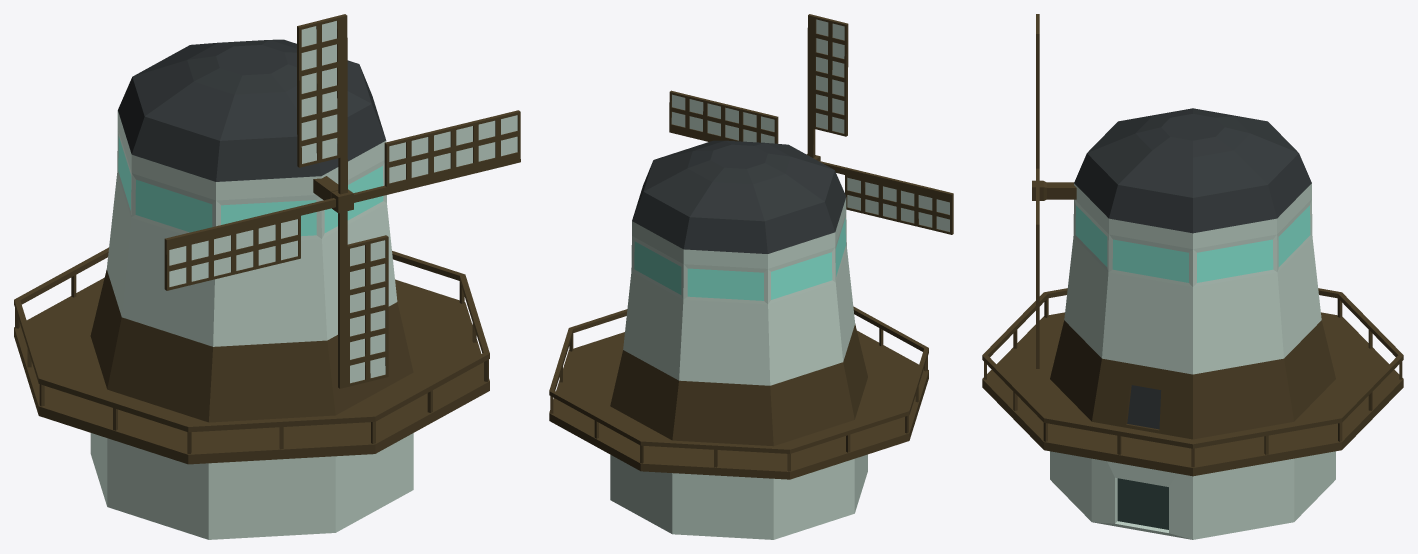
Rendered from windmill.fbx.
The picture shows the model from 3 angles, left to right: view 1: azimuth 30°, elevation 25°; view 2: azimuth 150°, elevation 25°; view 3: azimuth 270°, elevation 25°; orthographic projection. The views are drawn at different scales.
Parts seen in each view (by area): view 1: Cube; view 2: Cube; view 3: Cube.
Part boxes in pixels (x1,y1,x2,y2): Cube: (14,14,520,539); Cube: (549,14,953,539); Cube: (982,14,1403,539).
Size of the model in its own units: 763 by 892 by 763.
